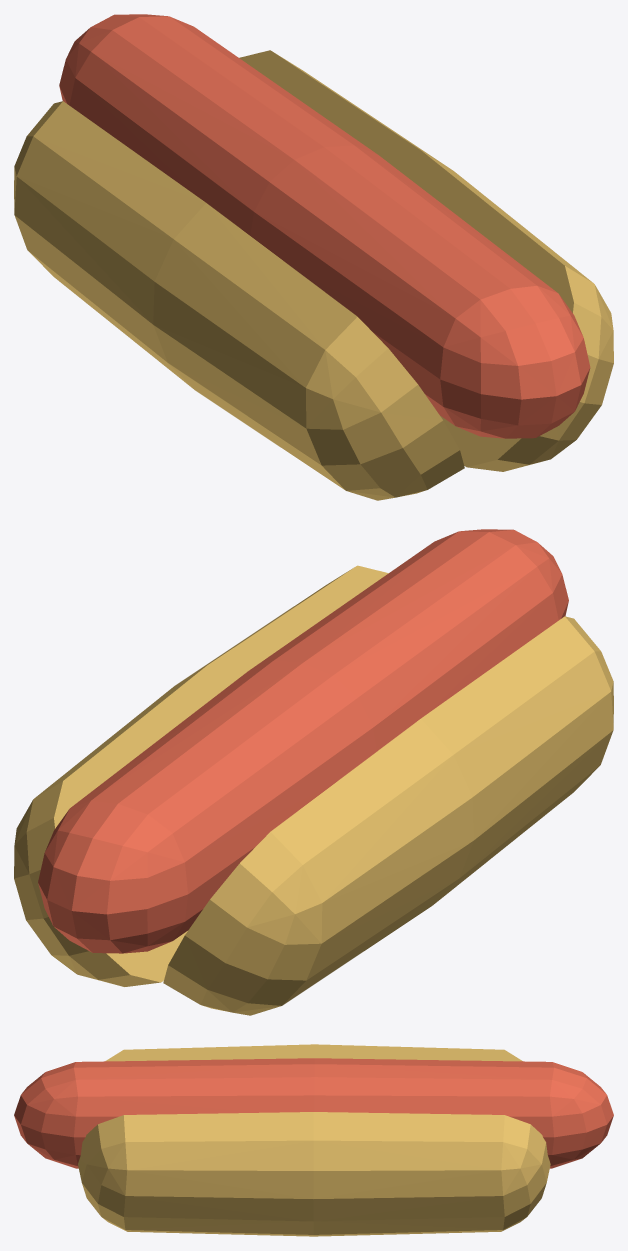
Rendered from perrito2.dae.
3 views of the same model, one above another, from view 1: azimuth 30°, elevation 25°; view 2: azimuth 150°, elevation 25°; view 3: azimuth 270°, elevation 25° (orthographic). The views are drawn at different scales.
Parts seen in each view (by area): view 1: Cube, Cube.001; view 2: Cube, Cube.001; view 3: Cube, Cube.001.
Part boxes in pixels (x1,y1,x2,y2): Cube: (14,50,613,500); Cube.001: (59,14,590,438); Cube: (14,565,613,1015); Cube.001: (38,529,568,953); Cube: (78,1044,550,1236); Cube.001: (14,1058,613,1168).
Bounding box in the file's own units: 2.56 × 6.4 × 1.78.
